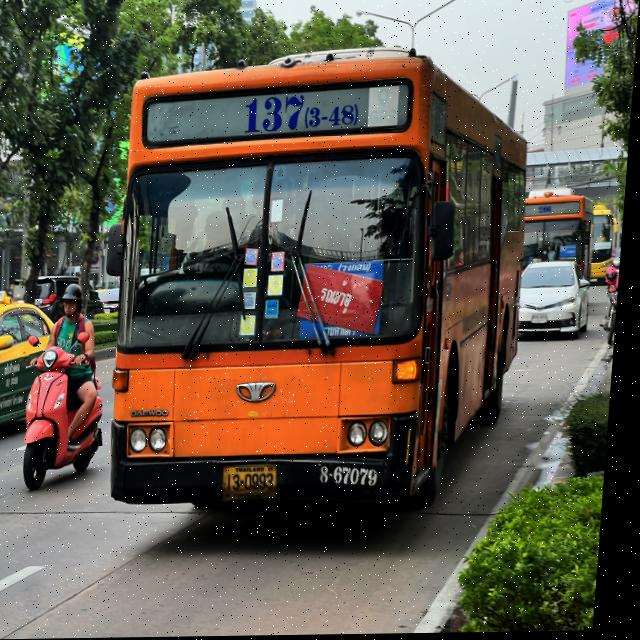BMTA-bus: (107, 51, 540, 516)
Bus-Line-Number: (239, 86, 366, 141)
Destination-Sign-Extra-Bus: (300, 263, 390, 342)
